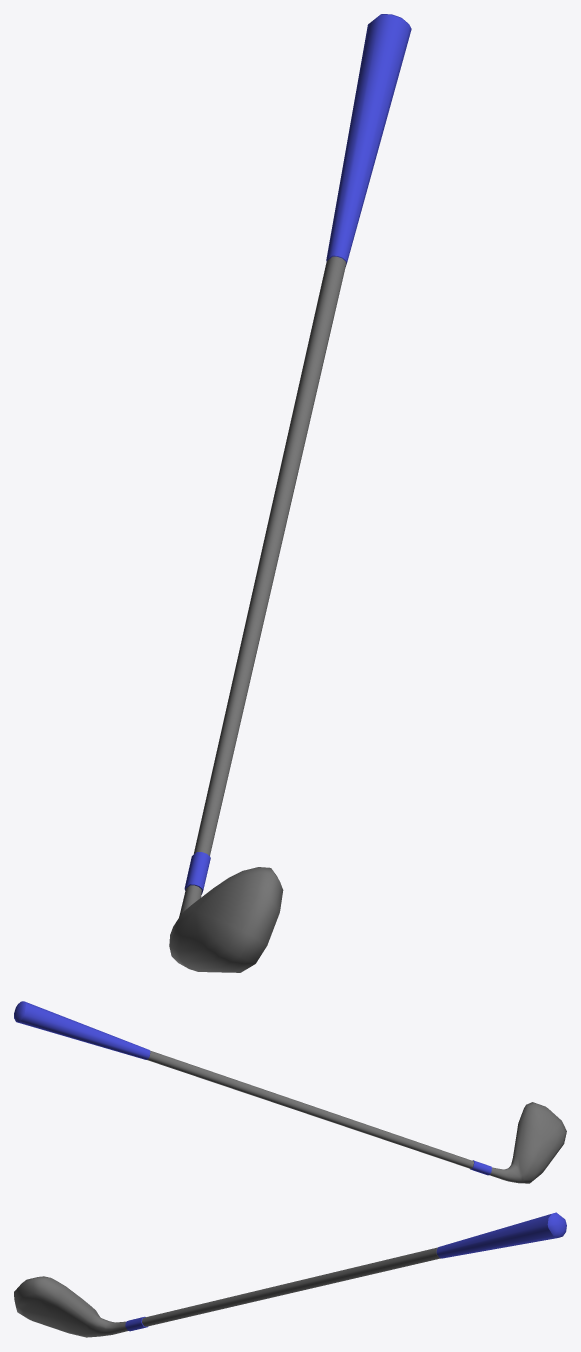
Rendered from golf_club.FBX.
3 views of the same model, one above another, from view 1: azimuth 30°, elevation 25°; view 2: azimuth 150°, elevation 25°; view 3: azimuth 270°, elevation 25° (orthographic). The views are drawn at different scales.
Parts seen in each view (by area): view 1: GOLF_club; view 2: GOLF_club; view 3: GOLF_club.
Part boxes in pixels (x1,y1,x2,y2): GOLF_club: (169, 14, 411, 972); GOLF_club: (14, 1001, 566, 1183); GOLF_club: (14, 1212, 566, 1337).
Bounding box in the file's own units: 68.09 × 51.03 × 87.11.
